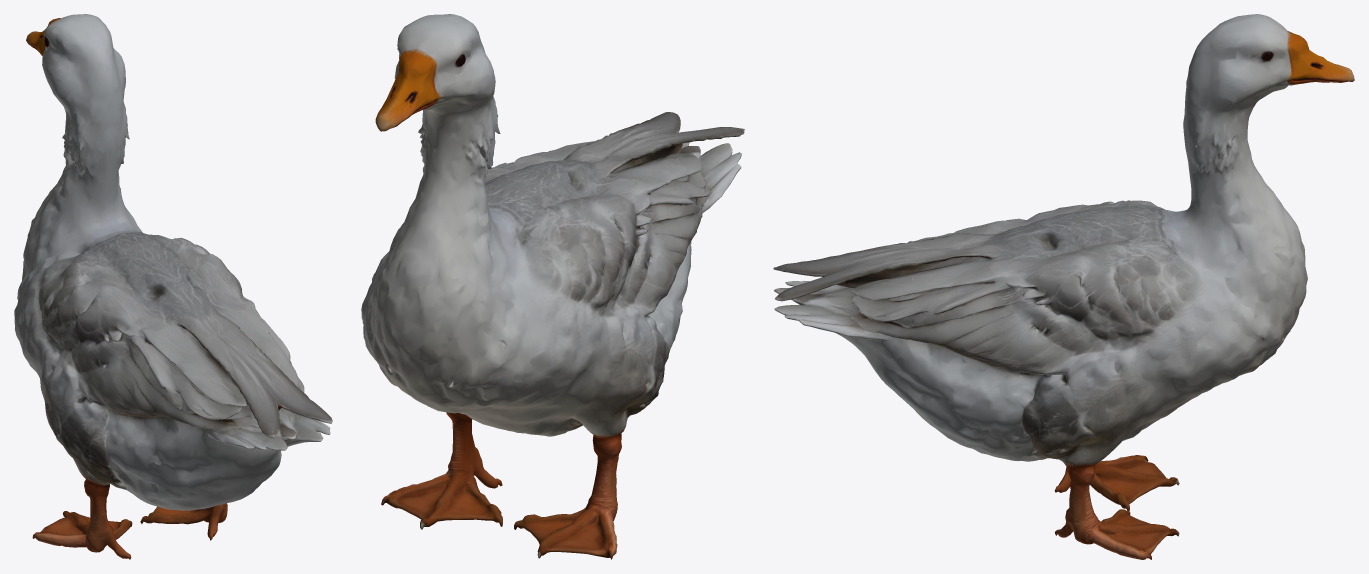
Rendered from goose-standing.glb.
3 renders of one model, left to right at view 1: azimuth 30°, elevation 25°; view 2: azimuth 150°, elevation 25°; view 3: azimuth 270°, elevation 25°, orthographic. The views are drawn at different scales.
Parts seen in each view (by area): view 1: tripo_node_b337ec14-2218-48b0-9578-3e78e33600be; view 2: tripo_node_b337ec14-2218-48b0-9578-3e78e33600be; view 3: tripo_node_b337ec14-2218-48b0-9578-3e78e33600be.
Part boxes in pixels (x1,y1,x2,y2): tripo_node_b337ec14-2218-48b0-9578-3e78e33600be: [14, 14, 332, 559]; tripo_node_b337ec14-2218-48b0-9578-3e78e33600be: [361, 14, 744, 559]; tripo_node_b337ec14-2218-48b0-9578-3e78e33600be: [773, 14, 1354, 559].
Bounding box in the file's own units: 0.291 × 0.65 × 0.6917.
1 material, 1 textured.
